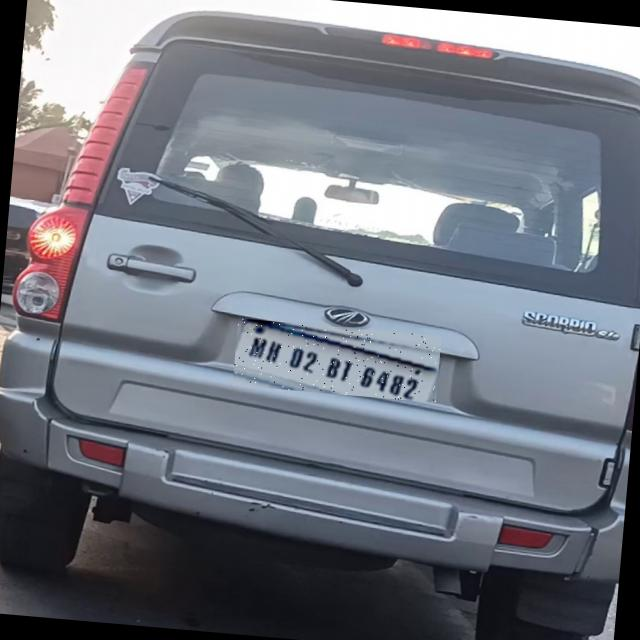Plate: (233, 319, 442, 404)
